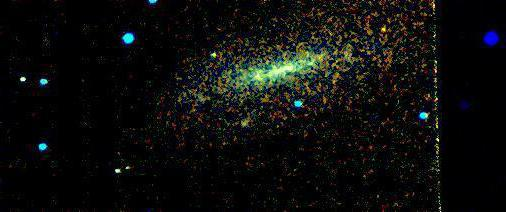star: (367, 19, 397, 49)
